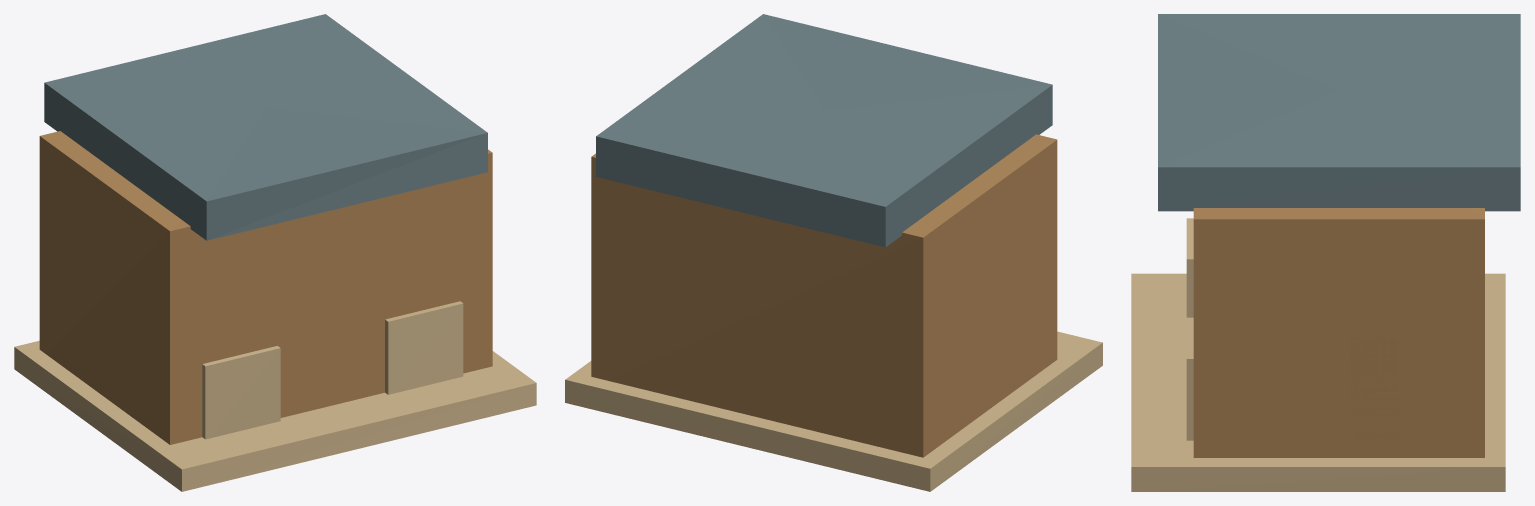
Rendered from Fertilizer-Shed.glb.
The picture shows the model from 3 angles, left to right: view 1: azimuth 30°, elevation 25°; view 2: azimuth 150°, elevation 25°; view 3: azimuth 270°, elevation 25°; orthographic projection. The views are drawn at different scales.
Visible parts, largest first — view 1: fertilizer-shed-static-fert-teal, fertilizer-shed-static-fert-iron, fertilizer-shed-static-fert-concrete, fertilizer-shed-static-fert-cream; view 2: fertilizer-shed-static-fert-teal, fertilizer-shed-static-fert-iron, fertilizer-shed-static-fert-concrete; view 3: fertilizer-shed-static-fert-teal, fertilizer-shed-static-fert-iron, fertilizer-shed-static-fert-concrete, fertilizer-shed-static-fert-galv, fertilizer-shed-static-fert-cream.
Boxes of the visible parts, x1,y1,x2,y2 form: fertilizer-shed-static-fert-teal: (39,131,492,444); fertilizer-shed-static-fert-iron: (44,14,487,240); fertilizer-shed-static-fert-concrete: (14,340,536,491); fertilizer-shed-static-fert-cream: (202,301,463,439); fertilizer-shed-static-fert-teal: (591,134,1057,457); fertilizer-shed-static-fert-iron: (596,14,1052,247); fertilizer-shed-static-fert-concrete: (565,331,1102,491); fertilizer-shed-static-fert-teal: (1193,208,1484,457); fertilizer-shed-static-fert-iron: (1158,14,1520,211); fertilizer-shed-static-fert-concrete: (1131,273,1505,491); fertilizer-shed-static-fert-galv: (1349,338,1398,438); fertilizer-shed-static-fert-cream: (1186,218,1193,440).
Bounding box in the file's own units: 3.3 × 2.42 × 2.81.
